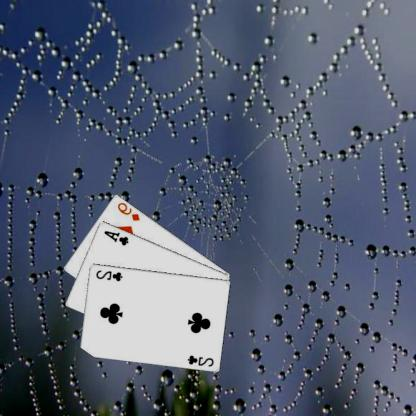2C: (186, 352, 217, 368), (95, 267, 125, 282)
9D: (116, 199, 143, 222)
AC: (103, 227, 132, 247)
